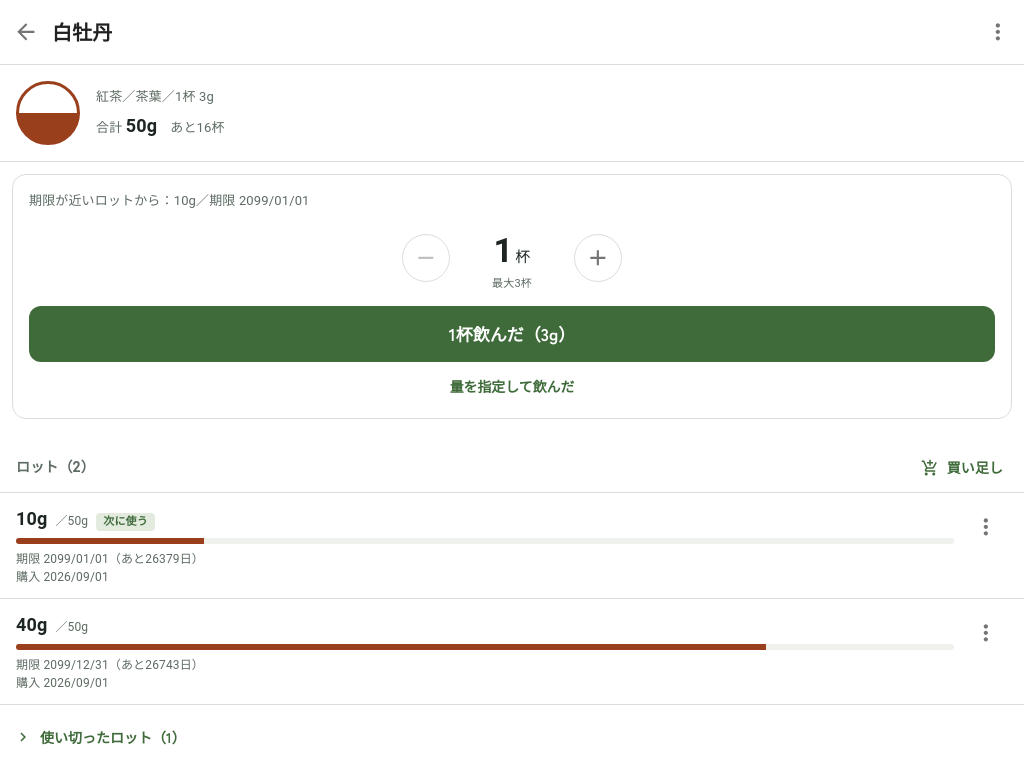
Test: SC-03 在庫の操作 › 杯数は1〜最大杯数の範囲で選ぶ
expect the button named "1杯減らす" is disabled: met, box [402,234,450,282]
Click the button named "1杯増やす".
click(598, 258)  # box [574,234,622,282]
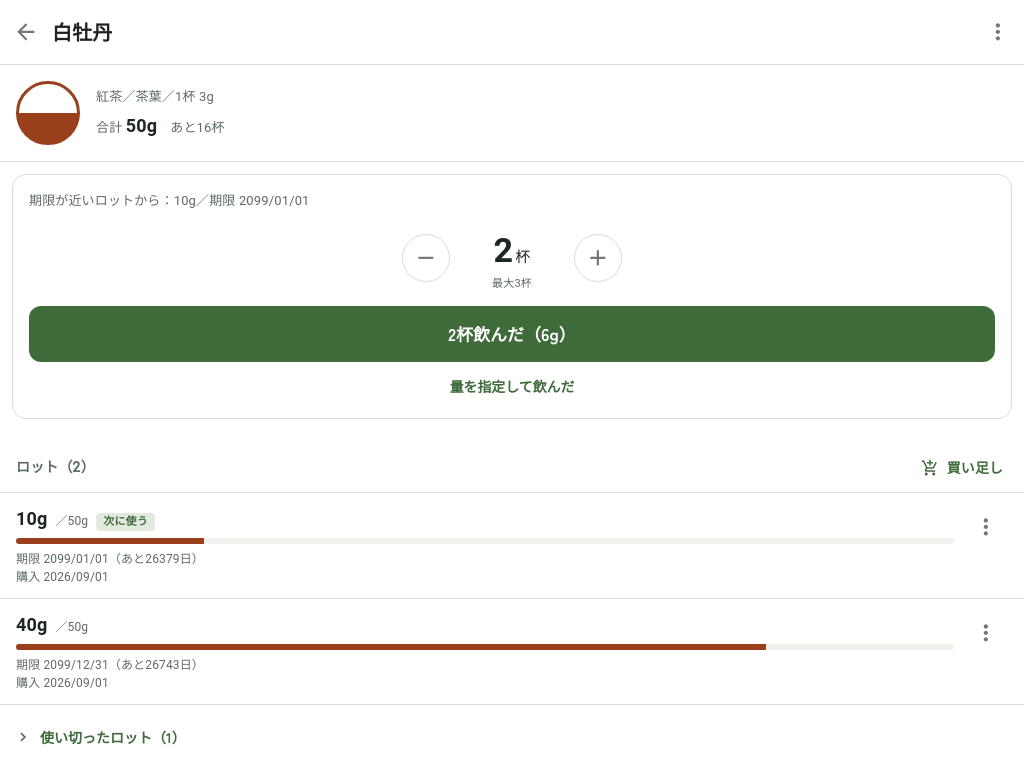
Click the button named "1杯増やす".
click(598, 258)  # box [574,234,622,282]
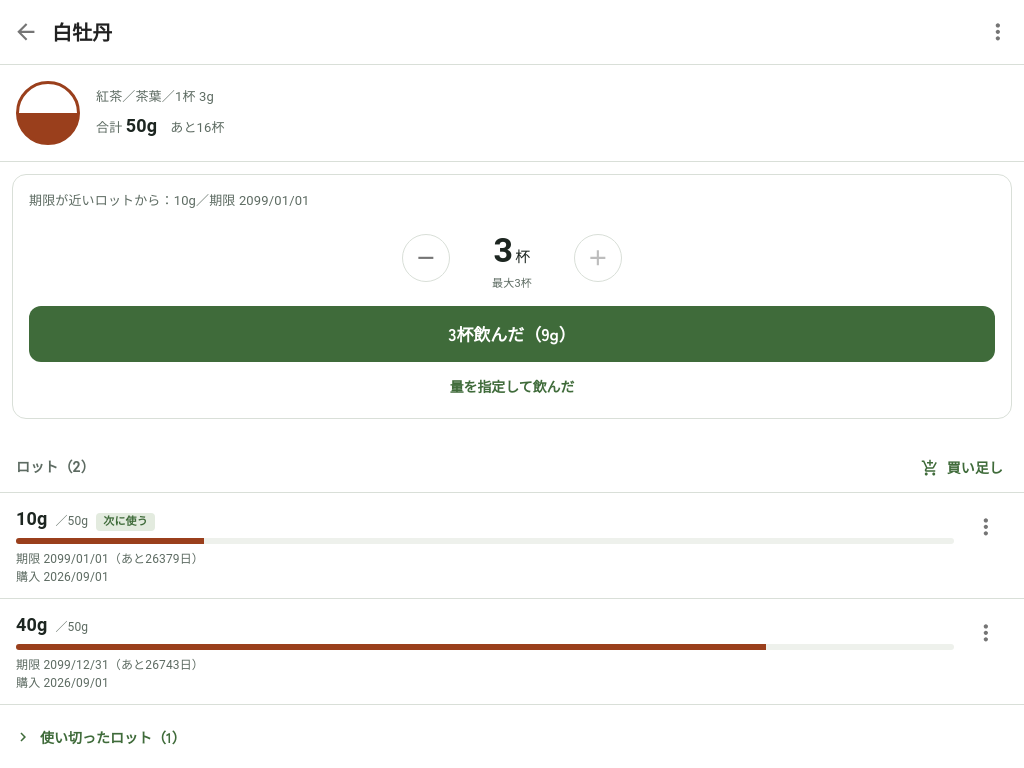
expect the button named "1杯増やす" is disabled: met, box [574,234,622,282]
expect the button "3杯飲んだ（9g）" is shown: met, box [29,306,995,362]
